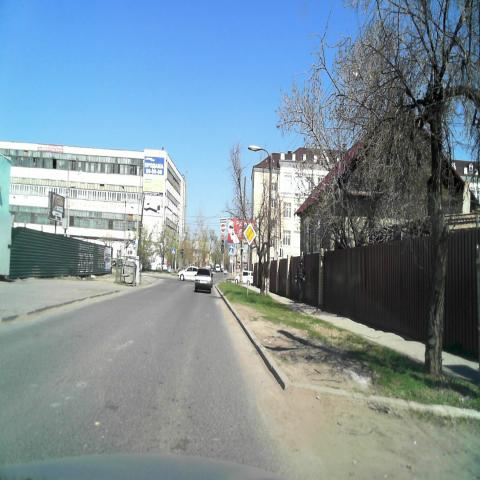2_2: (244, 222, 256, 246)
